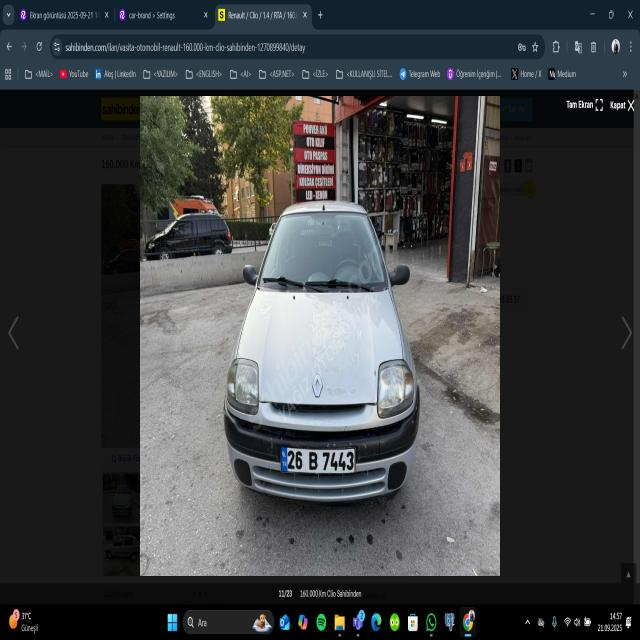renault: (308, 371, 326, 400)
